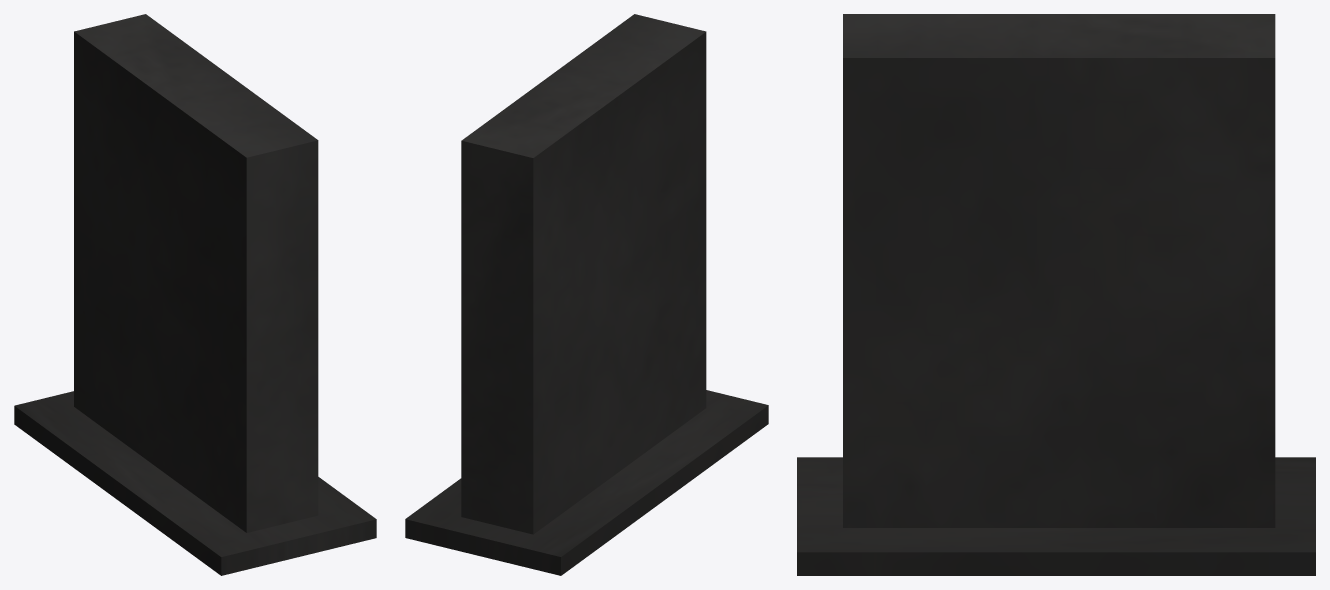
Rendered from SaleSign.fbx.
3 views of the same model, side by side, from view 1: azimuth 30°, elevation 25°; view 2: azimuth 150°, elevation 25°; view 3: azimuth 270°, elevation 25° (orthographic). The views are drawn at different scales.
Visible parts, largest first — view 1: SaleSign; view 2: SaleSign; view 3: SaleSign.
Part boxes in pixels (<box>): SaleSign: <box>14,14,376,575</box>; SaleSign: <box>405,14,768,575</box>; SaleSign: <box>797,14,1315,575</box>.
Size of the model in its own units: 55.37 by 134 by 128.
